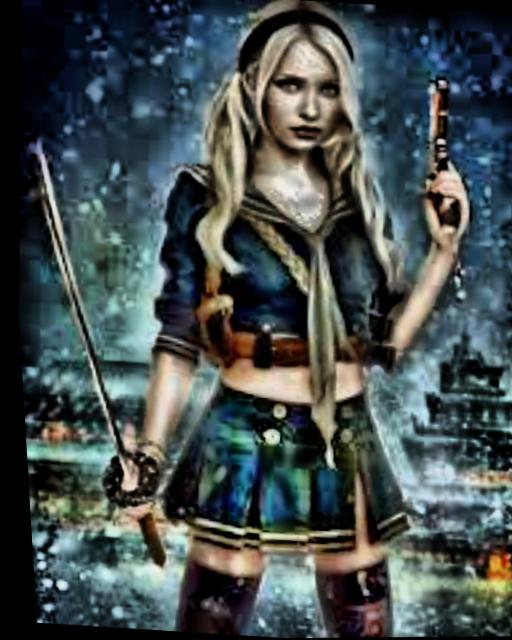pistol: (408, 75, 470, 224)
